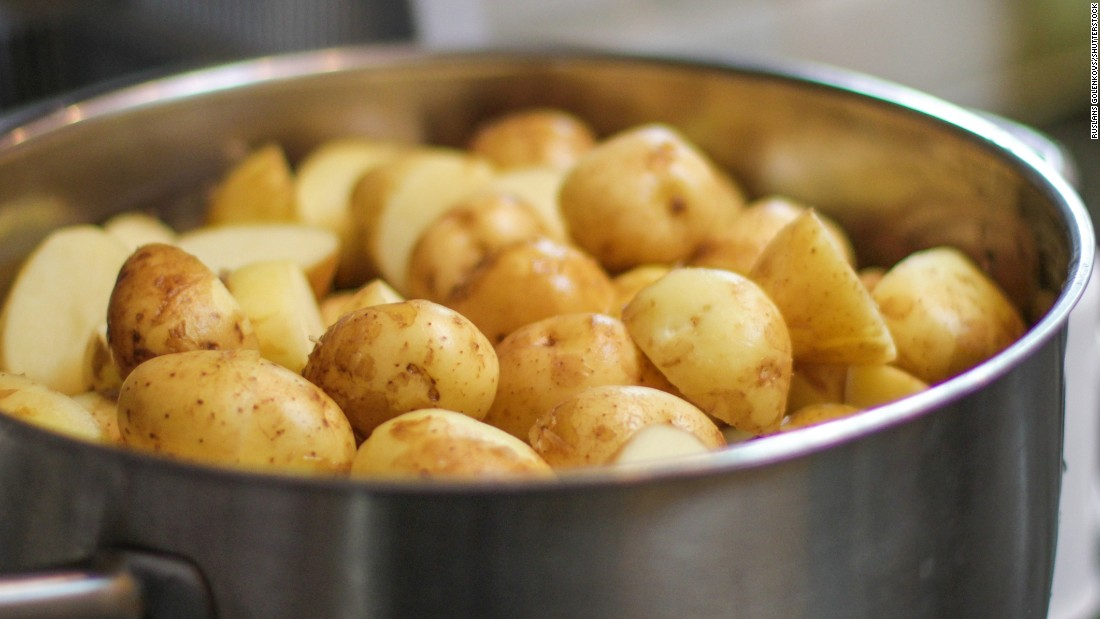boiled potatoes: (107, 203, 828, 418)
